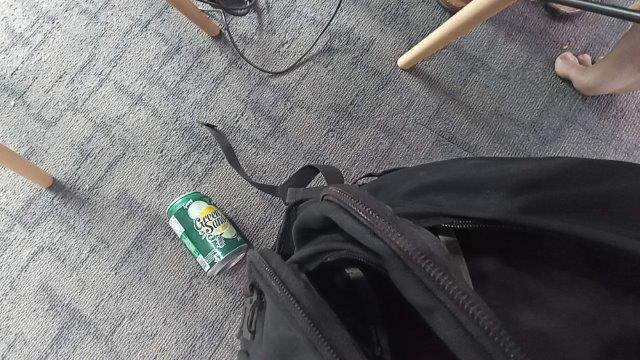kaleng: (165, 191, 248, 277)
